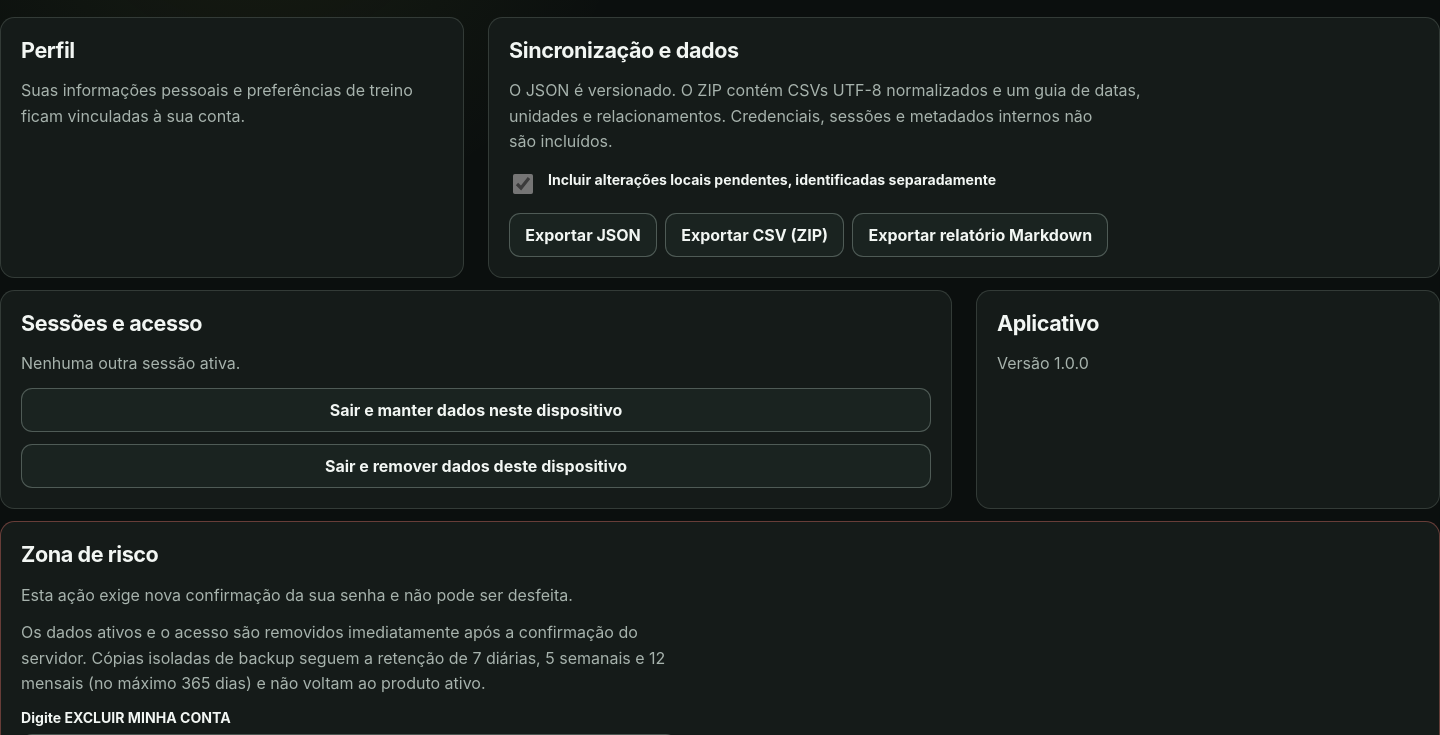
Test: account portability screen › requires an explicit second step before destructive local removal and reports server errors
Step 1. Click the button "Sair e remover dados deste dispositivo" → (476, 466), box [21,444,931,488]
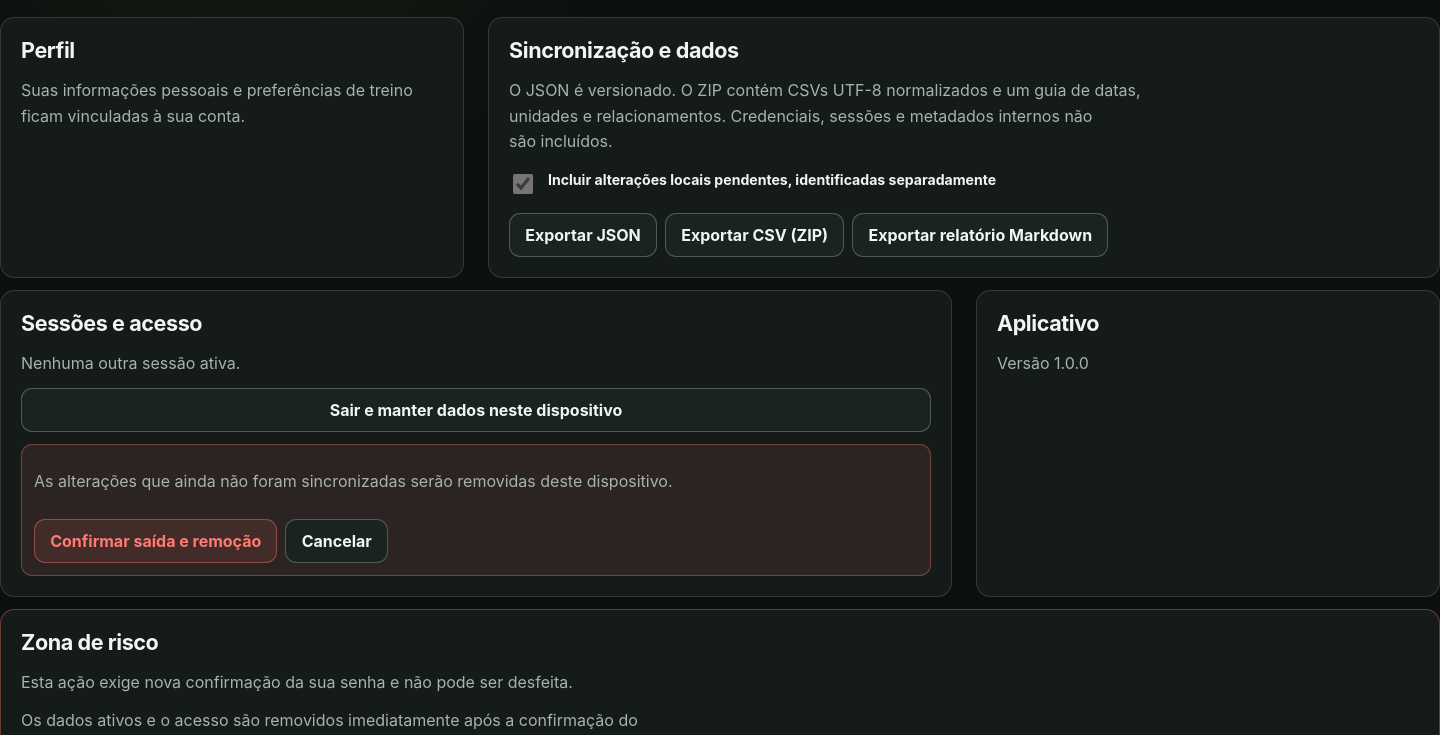
Step 2. Click the button "Cancelar" → (337, 541), box [286,519,388,563]
(page scrolled)
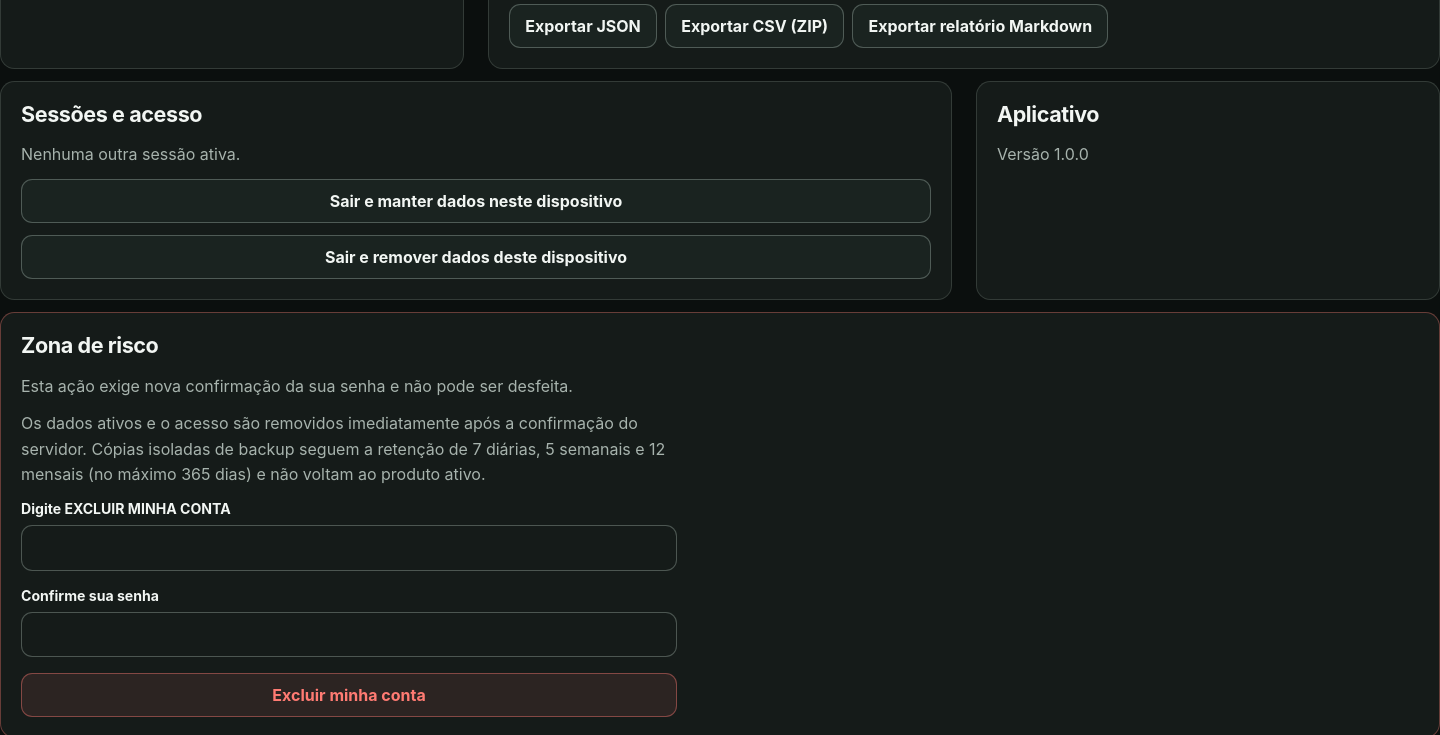
Check: the message is gone
Step 3. Type "EXCLUIR MINHA CONTA" into the field labelled "Digite EXCLUIR MINHA CONTA" → (349, 548), box [21,525,677,571]
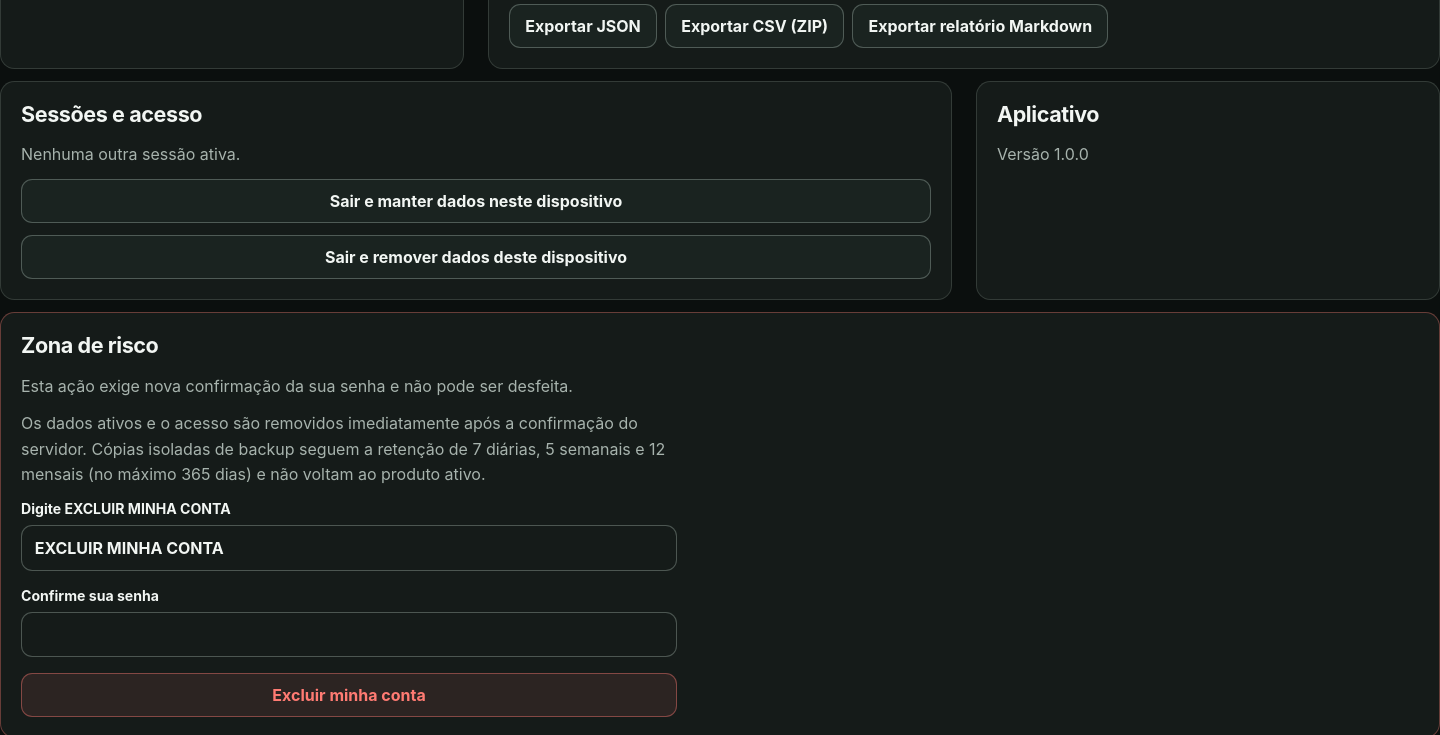
Step 4. Type "senha-incorreta" into the password field labelled "Confirme sua senha" → (349, 634), box [21,612,677,657]
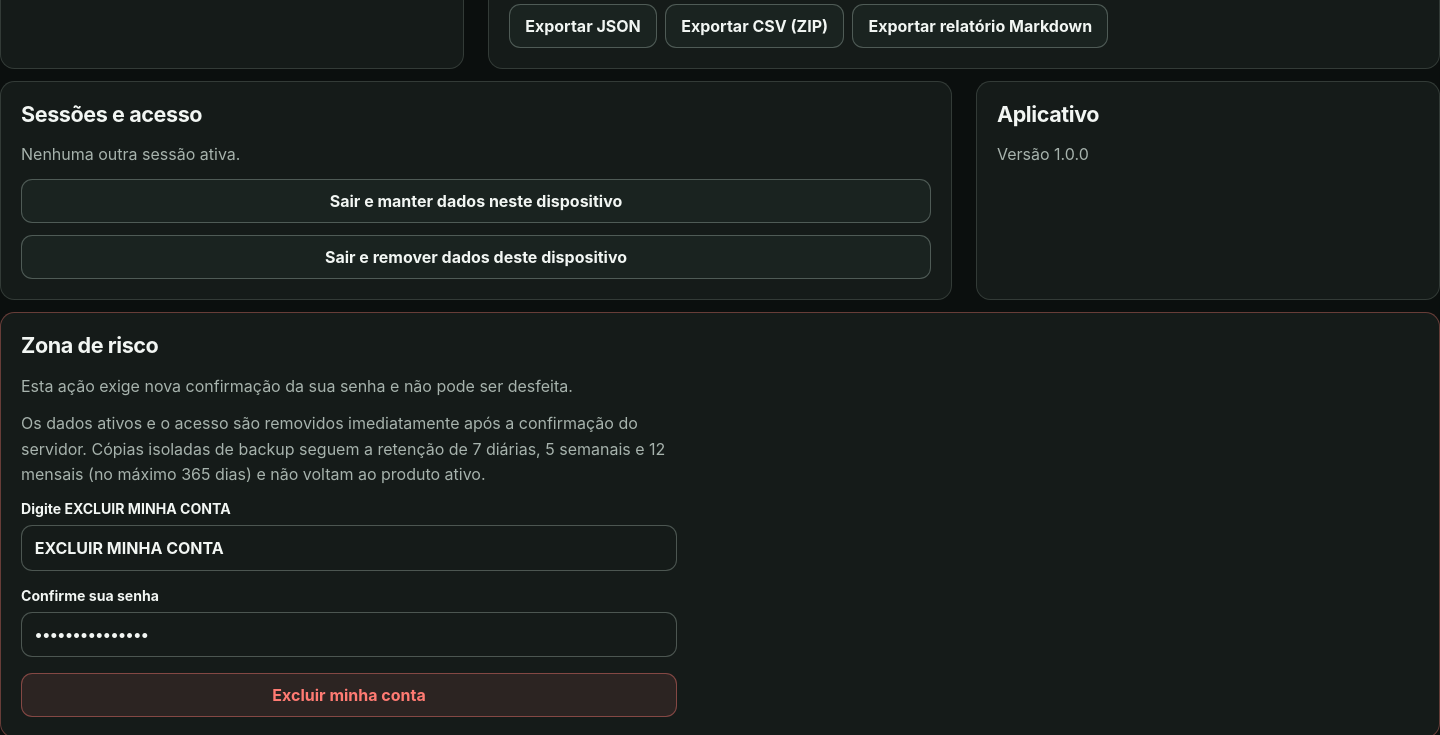
Step 5. Submit the form "EXCLUIR MINHA CONTA", box [21,500,677,717]
(page scrolled)
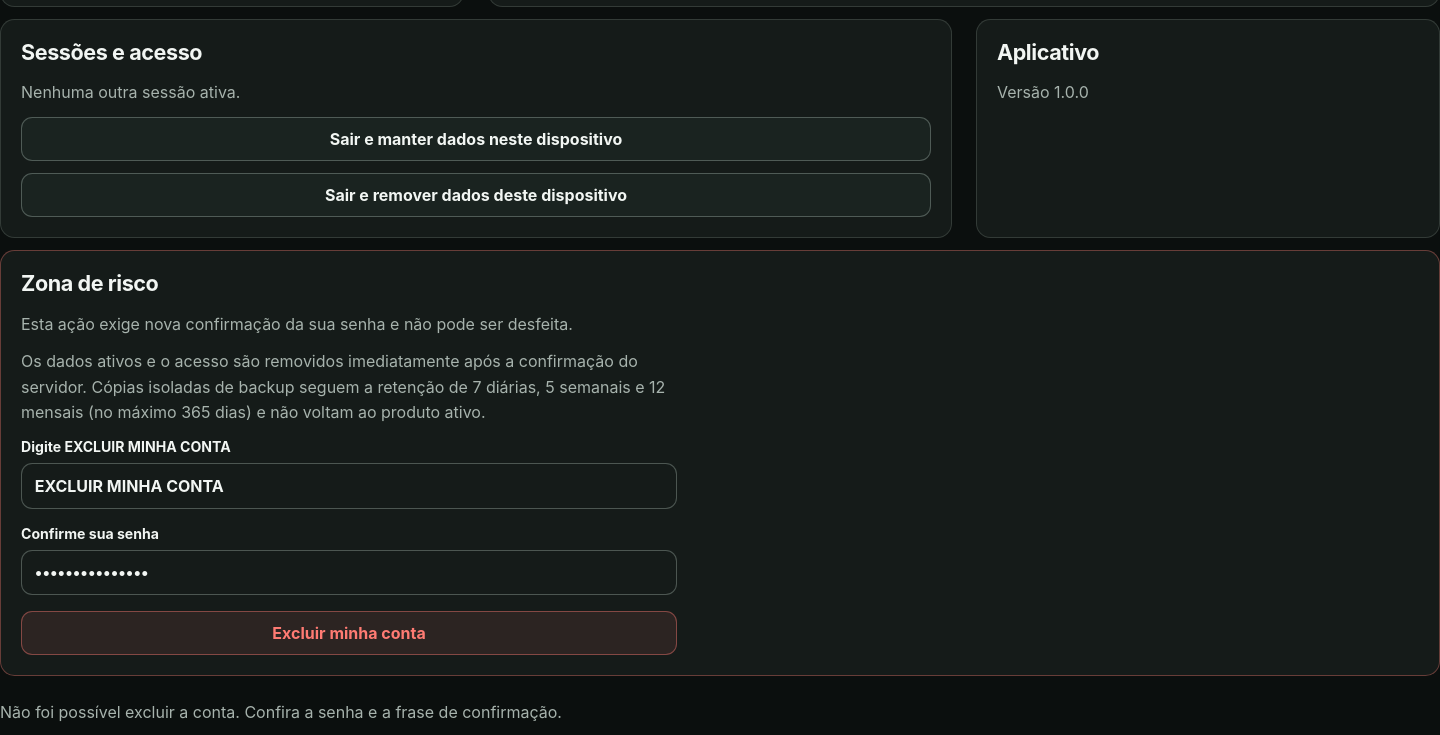
Check: the text "Não foi possível excluir a conta. Confira a senha e a frase de confirmação." is shown, box [0,700,656,726]
